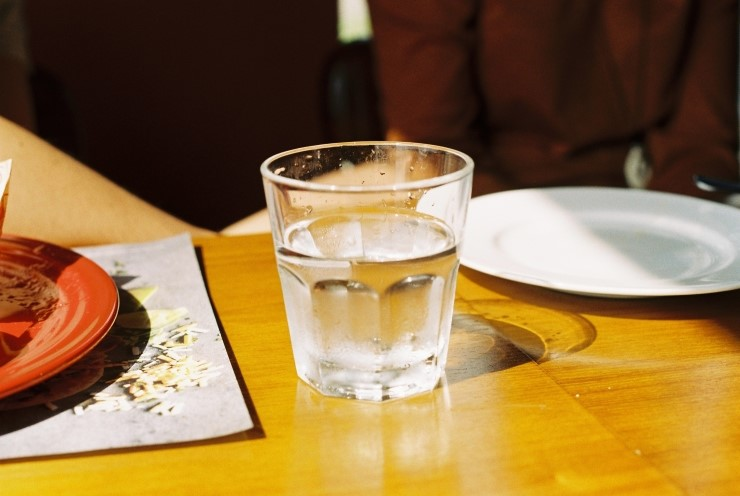glass of water: (266, 146, 469, 394)
